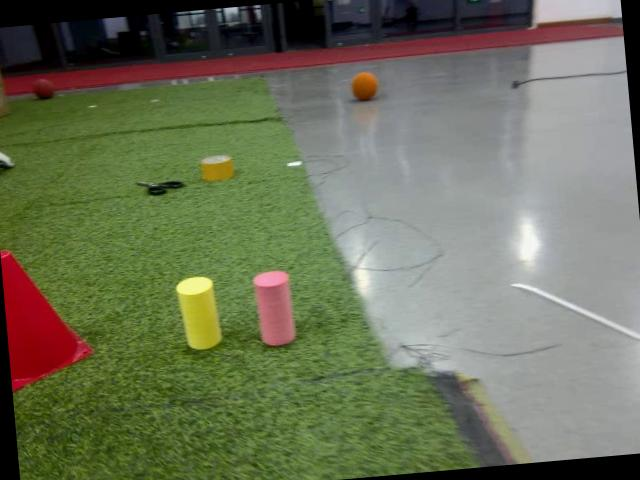orange_ball: (346, 70, 378, 102)
red_ball: (32, 73, 56, 103)
red_barrel: (0, 240, 95, 391)
red_cylinder: (248, 266, 300, 348)
yellow_cylinder: (172, 273, 225, 354)
